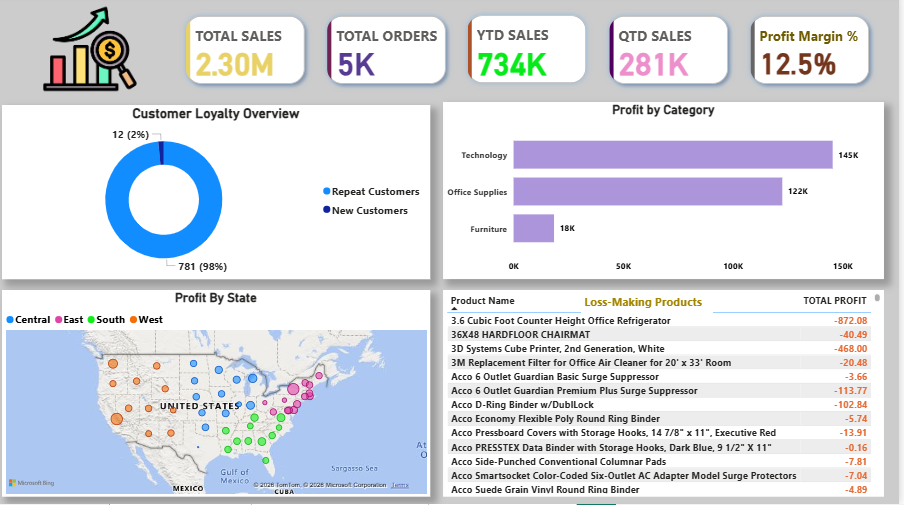

The page's visual inventory and layout, read from the dashboard file:
{"tool":"powerbi","page":{"name":"Profit & Product Analysis","canvas":[1280,720],"ordinal":1},"visuals":[{"type":"clusteredBarChart","title":"Profit by Category","fields":{"Category":["Superstore.Category"],"Y":["Sum(Superstore.Profit)"]},"box":[635,150.2,625,250.9],"z":0},{"type":"tableEx","fields":{"Values":["Superstore.Product Name","Superstore.TOTAL PROFIT"]},"box":[635,416.7,625,293.4],"z":1000},{"type":"textbox","box":[830.6,416.7,187.1,34],"z":2000},{"type":"cardVisual","fields":{"Data":["Superstore.TOTAL SALES","Superstore.TOTAL ORDERS","Superstore.YTD SALES","Superstore.QTD SALES","Superstore.Profit Margin %"]},"box":[253.7,11.3,1006.3,130.4],"z":3000},{"type":"donutChart","title":"Customer Loyalty Overview","fields":{"Y":["Superstore.Repeat Customers","Superstore.New Customers"]},"box":[9.9,154.5,606.6,246.6],"z":4000},{"type":"map","title":"Profit By State","fields":{"Category":["Superstore.State"],"Series":["Superstore.Region"],"Size":["Sum(Superstore.Profit)"]},"box":[9.9,416.7,606.6,293.4],"z":5000},{"type":"image","box":[16,0,238,150],"z":6000}]}

Visuals, with their boxes in screenshot pixels (x1, y1, x2, y2), scaled from the page's 1280x720 canvas onto the 904x505 screenshot:
"Profit by Category" clusteredBarChart: [448,105,890,281]
tableEx - Superstore.Product Name x Superstore.TOTAL PROFIT: [448,292,890,498]
textbox: [587,292,719,316]
cardVisual - Superstore.TOTAL SALES x Superstore.TOTAL ORDERS: [179,8,890,99]
"Customer Loyalty Overview" donutChart: [7,108,435,281]
"Profit By State" map: [7,292,435,498]
image: [11,0,179,105]
